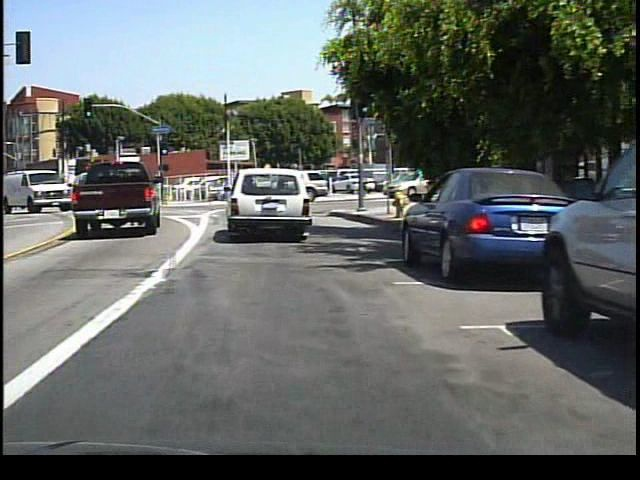person: (353, 167, 369, 200)
